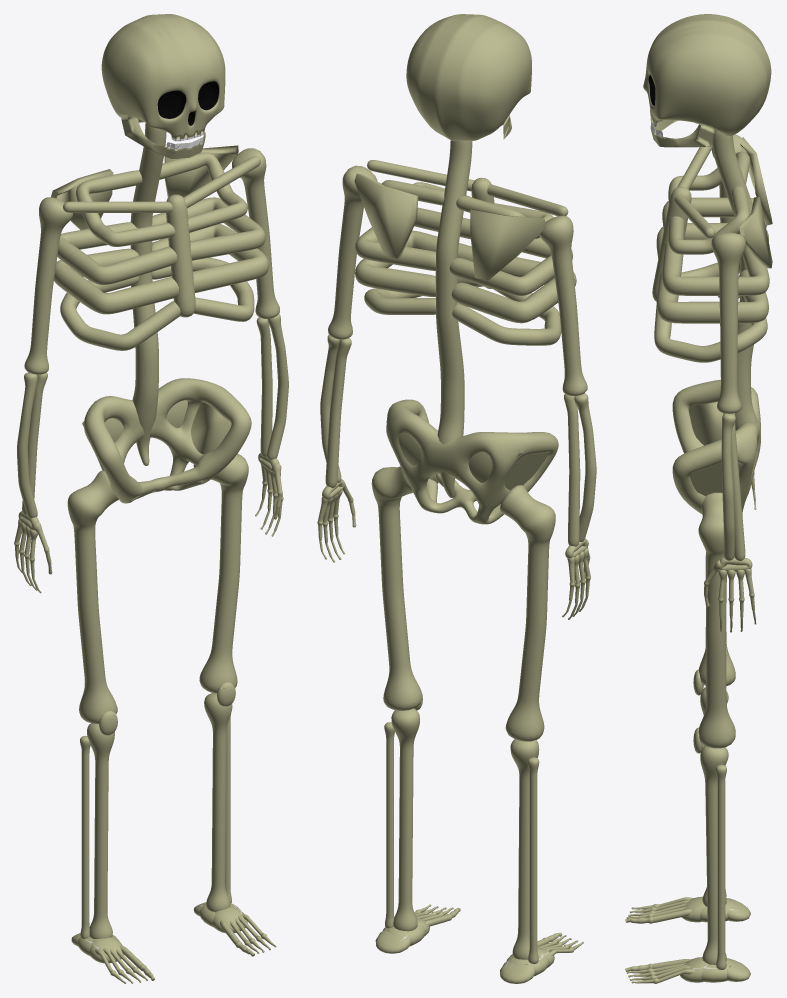
The model's file is Full_Skeleton_test2.glb.
The picture shows the model from 3 angles, left to right: view 1: azimuth 30°, elevation 25°; view 2: azimuth 150°, elevation 25°; view 3: azimuth 270°, elevation 25°; orthographic projection.
Parts seen in each view (by area): view 1: Ruggengraad, Skull, Scapula, Pelvis fillers, Front balm, Patela; view 2: Ruggengraad, Skull, Scapula, Pelvis fillers, Heel, Balm; view 3: Ruggengraad, Skull, Scapula, Pelvis fillers, Front balm, Heel, Balm, Patela.
Boxes of the visible parts, x1,y1,x2,y2 form: Ruggengraad: (14, 123, 288, 983); Skull: (101, 14, 225, 158); Scapula: (51, 145, 238, 229); Pelvis fillers: (82, 400, 231, 454); Front balm: (89, 906, 247, 963); Patela: (99, 682, 235, 735); Ruggengraad: (317, 140, 596, 963); Skull: (406, 14, 531, 140); Scapula: (354, 173, 545, 280); Pelvis fillers: (386, 419, 548, 490); Heel: (375, 929, 535, 983); Balm: (383, 925, 549, 976); Ruggengraad: (625, 131, 769, 983); Skull: (643, 14, 771, 147); Scapula: (739, 137, 772, 268); Pelvis fillers: (688, 402, 740, 495); Front balm: (680, 896, 707, 982); Heel: (726, 898, 750, 981); Balm: (700, 898, 734, 982); Patela: (693, 669, 703, 753).
Size of the model in its own units: 1.85 by 6.03 by 0.8663.
1 material, 1 textured.
